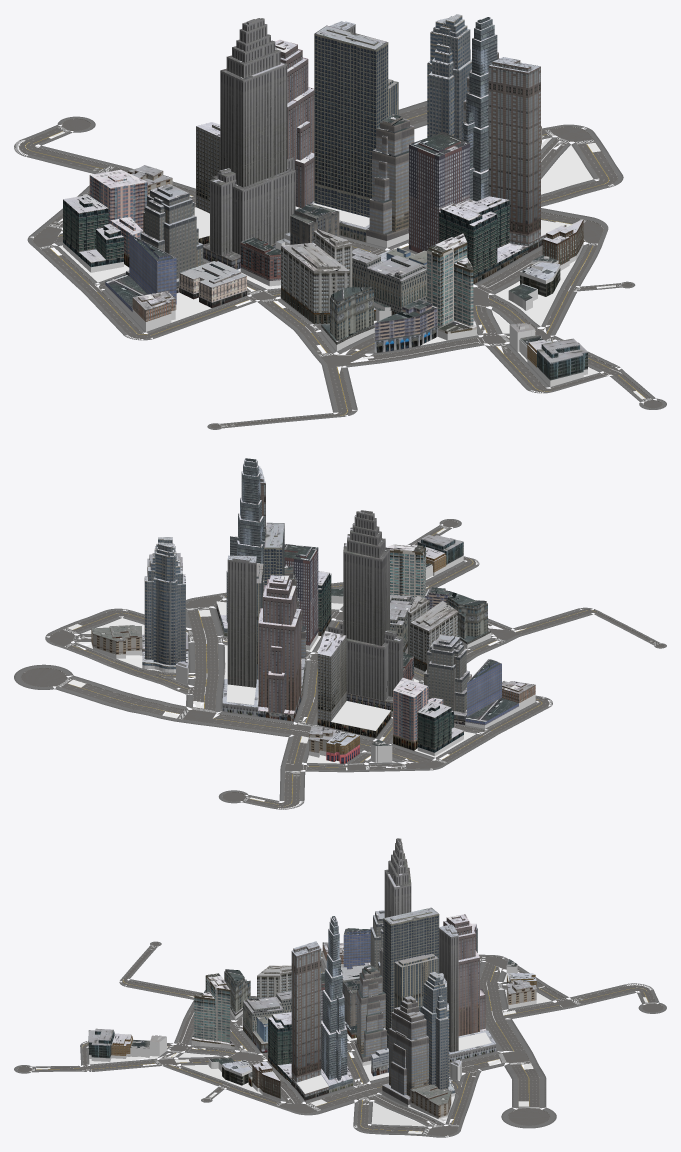
File: colombo_city.glb
The picture shows the model from 3 angles, top to bottom: view 1: azimuth 30°, elevation 25°; view 2: azimuth 150°, elevation 25°; view 3: azimuth 270°, elevation 25°; orthographic projection. The views are drawn at different scales.
Parts seen in each view (by area): view 1: CityEngineMaterial_31_m, CityEngineMaterial_3_m, CityEngineMaterial_98_m, CityEngineMaterial_1_m, CityEngineMaterial_106_m, CityEngineMaterial_108_m, CityEngineMaterial_115_m, CityEngineMaterial_74_m, CityEngineMaterial_71_m, CityEngineMaterial_112_m, CityEngineMaterial_94_m, CityEngineMaterial_49_m (+35 smaller); view 2: CityEngineMaterial_31_m, CityEngineMaterial_1_m, CityEngineMaterial_3_m, CityEngineMaterial_94_m, CityEngineMaterial_71_m, CityEngineMaterial_4_m, CityEngineMaterial_112_m, CityEngineMaterial_133_m, CityEngineMaterial_108_m, CityEngineMaterial_164_m, CityEngineMaterial_2_m, CityEngineMaterial_115_m (+21 smaller); view 3: CityEngineMaterial_1_m, CityEngineMaterial_3_m, CityEngineMaterial_74_m, CityEngineMaterial_106_m, CityEngineMaterial_31_m, CityEngineMaterial_112_m, CityEngineMaterial_4_m, CityEngineMaterial_98_m, CityEngineMaterial_94_m, CityEngineMaterial_71_m, CityEngineMaterial_79_m, CityEngineMaterial_2_m (+17 smaller).
Part boxes in pixels (left/top/right/bottom): CityEngineMaterial_31_m: left=203, top=18, right=355, bottom=260; CityEngineMaterial_3_m: left=14, top=101, right=666, bottom=429; CityEngineMaterial_98_m: left=314, top=30, right=388, bottom=235; CityEngineMaterial_1_m: left=19, top=106, right=648, bottom=424; CityEngineMaterial_106_m: left=488, top=60, right=566, bottom=246; CityEngineMaterial_108_m: left=63, top=197, right=528, bottom=278; CityEngineMaterial_115_m: left=409, top=141, right=469, bottom=252; CityEngineMaterial_74_m: left=366, top=53, right=498, bottom=240; CityEngineMaterial_71_m: left=427, top=15, right=471, bottom=139; CityEngineMaterial_112_m: left=462, top=17, right=497, bottom=201; CityEngineMaterial_94_m: left=275, top=41, right=314, bottom=208; CityEngineMaterial_49_m: left=281, top=228, right=352, bottom=312; CityEngineMaterial_31_m: left=222, top=510, right=403, bottom=711; CityEngineMaterial_1_m: left=63, top=527, right=645, bottom=807; CityEngineMaterial_3_m: left=14, top=519, right=666, bottom=809; CityEngineMaterial_94_m: left=258, top=576, right=301, bottom=713; CityEngineMaterial_71_m: left=142, top=539, right=188, bottom=669; CityEngineMaterial_4_m: left=21, top=520, right=663, bottom=801; CityEngineMaterial_112_m: left=220, top=458, right=265, bottom=632; CityEngineMaterial_133_m: left=424, top=636, right=469, bottom=720; CityEngineMaterial_108_m: left=318, top=573, right=463, bottom=752; CityEngineMaterial_164_m: left=317, top=636, right=346, bottom=721; CityEngineMaterial_2_m: left=21, top=520, right=664, bottom=808; CityEngineMaterial_115_m: left=284, top=548, right=318, bottom=645; CityEngineMaterial_1_m: left=36, top=952, right=654, bottom=1133; CityEngineMaterial_3_m: left=14, top=941, right=666, bottom=1137; CityEngineMaterial_74_m: left=355, top=967, right=428, bottom=1104; CityEngineMaterial_106_m: left=291, top=946, right=328, bottom=1096; CityEngineMaterial_31_m: left=380, top=838, right=496, bottom=1058; CityEngineMaterial_112_m: left=321, top=916, right=352, bottom=1089; CityEngineMaterial_4_m: left=17, top=942, right=663, bottom=1135; CityEngineMaterial_98_m: left=383, top=912, right=439, bottom=1048; CityEngineMaterial_94_m: left=443, top=916, right=485, bottom=1036; CityEngineMaterial_71_m: left=420, top=973, right=454, bottom=1093; CityEngineMaterial_79_m: left=191, top=975, right=234, bottom=1046; CityEngineMaterial_2_m: left=17, top=942, right=663, bottom=1135.
Bounding box in the file's own units: 80.05 × 31.58 × 106.
100 materials, 99 textured.
